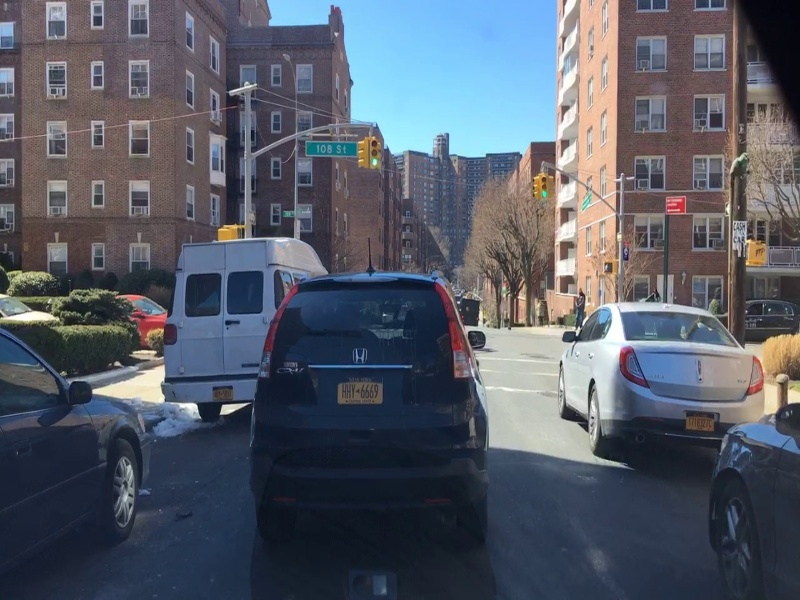car: (257, 263, 491, 555), (1, 291, 146, 596), (548, 293, 760, 455), (154, 224, 313, 423), (703, 392, 797, 600)
person: (571, 284, 584, 335)
